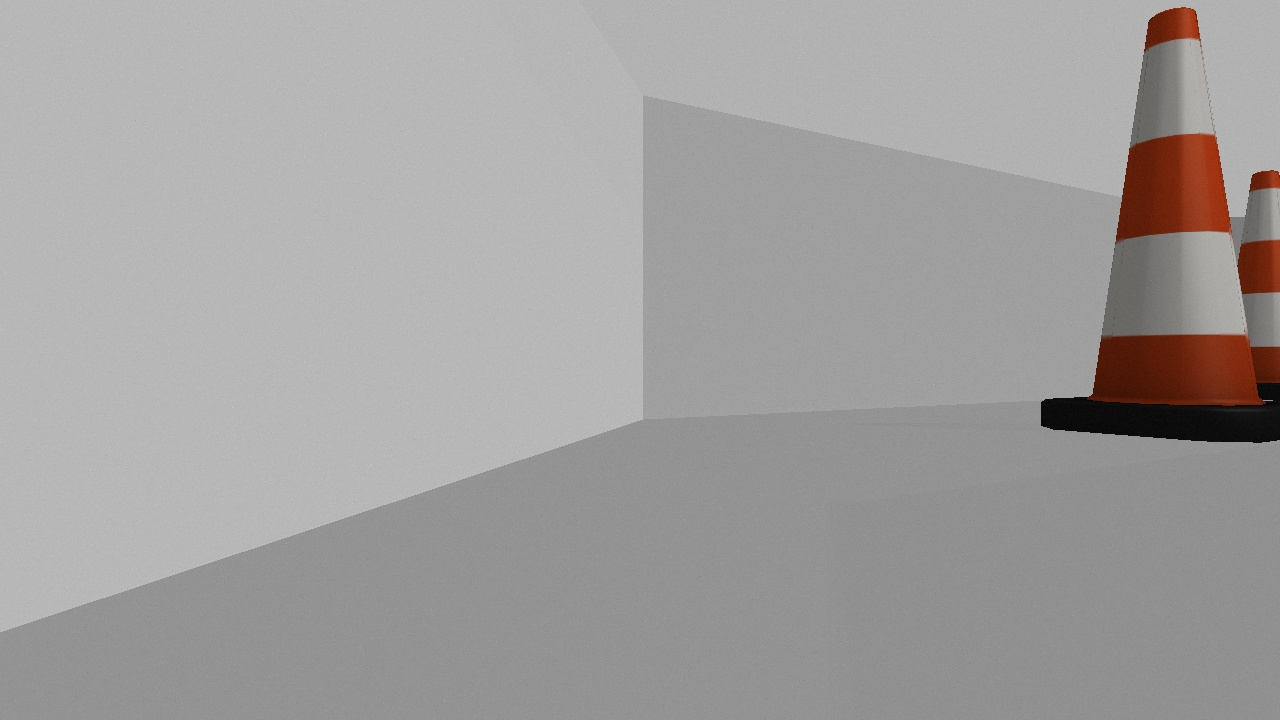barricade: (1028, 1, 1280, 443), (1218, 161, 1280, 401)
